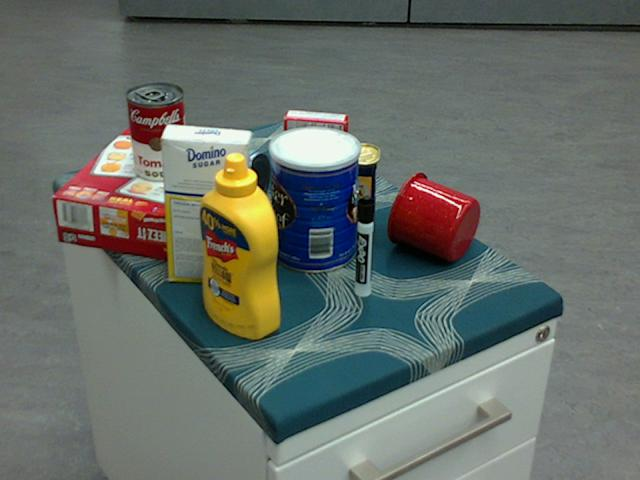cracker_box: (51, 124, 241, 264)
gelatin_box: (284, 110, 348, 168)
large_marker: (356, 195, 374, 297)
master_chef_can: (268, 125, 359, 273)
mug: (386, 171, 480, 261)
mustard_bottle: (200, 152, 279, 340)
potted_meat_can: (297, 141, 378, 218)
sugar_box: (159, 124, 250, 286)
tomato_soup_can: (125, 83, 187, 182)
tuna_fish_can: (213, 144, 267, 215)
